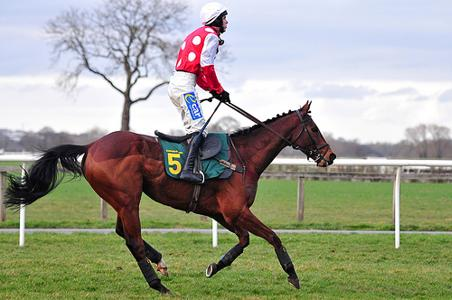person: (166, 1, 233, 183)
